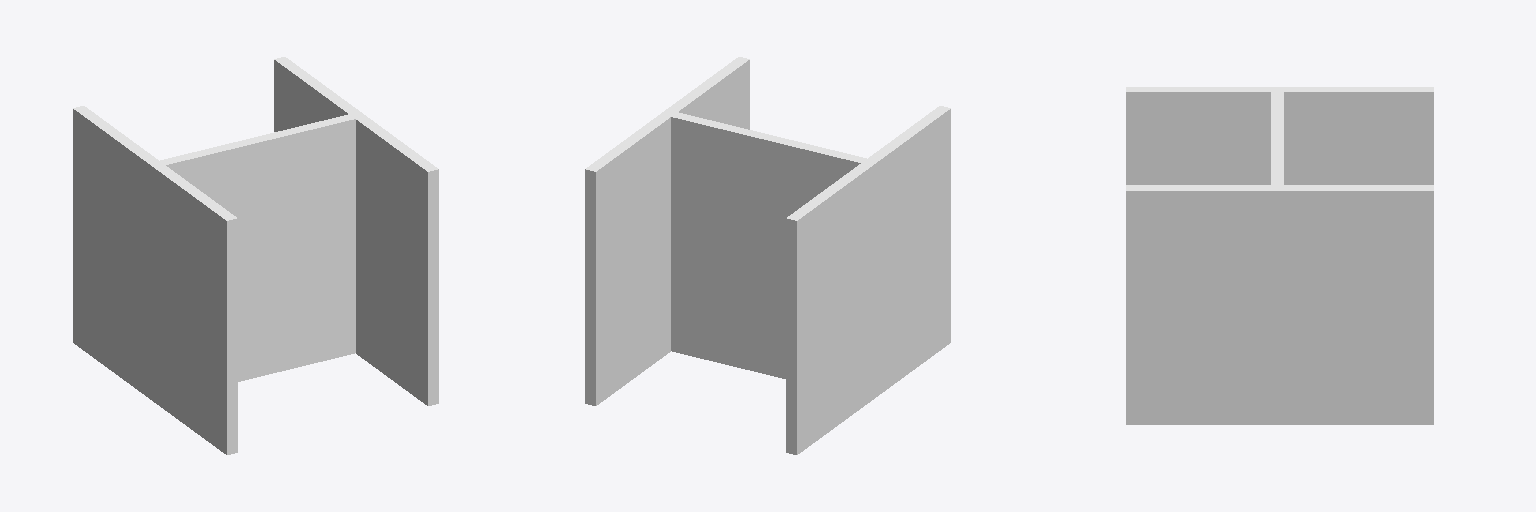
The picture shows the model from 3 angles: view 1: azimuth 30°, elevation 25°; view 2: azimuth 150°, elevation 25°; view 3: azimuth 270°, elevation 25°; orthographic projection.
Visible parts, largest first — view 1: wall_1_4, wall_3_16, wall_2_10, wall_1_3, wall_2_9, wall_1_6, wall_2_11, wall_1_5, wall_2_12, wall_3_17, wall_3_18; view 2: wall_1_4, wall_3_15, wall_2_10, wall_1_3, wall_2_9, wall_1_6, wall_2_11, wall_1_5, wall_2_12, wall_3_18, wall_3_17; view 3: wall_2_9, wall_1_3, wall_1_6, wall_2_11, wall_2_12, wall_3_17, wall_1_5, wall_3_18.
Part boxes in pixels (bbox=[...]): wall_1_4: bbox=[73, 109, 231, 454]; wall_3_16: bbox=[166, 119, 355, 381]; wall_2_10: bbox=[274, 60, 433, 405]; wall_1_3: bbox=[232, 218, 237, 453]; wall_2_9: bbox=[434, 169, 438, 404]; wall_1_6: bbox=[73, 107, 231, 220]; wall_2_11: bbox=[280, 57, 437, 170]; wall_1_5: bbox=[79, 106, 236, 219]; wall_2_12: bbox=[274, 58, 432, 171]; wall_3_17: bbox=[155, 113, 356, 162]; wall_3_18: bbox=[157, 115, 358, 165]; wall_1_4: bbox=[792, 109, 950, 454]; wall_3_15: bbox=[671, 117, 860, 378]; wall_2_10: bbox=[590, 60, 749, 405]; wall_1_3: bbox=[786, 218, 791, 453]; wall_2_9: bbox=[585, 169, 589, 404]; wall_1_6: bbox=[792, 107, 950, 220]; wall_2_11: bbox=[586, 57, 743, 170]; wall_1_5: bbox=[787, 106, 944, 219]; wall_2_12: bbox=[591, 58, 749, 171]; wall_3_18: bbox=[671, 111, 871, 161]; wall_3_17: bbox=[666, 114, 866, 164]; wall_2_9: bbox=[1126, 191, 1433, 424]; wall_1_3: bbox=[1126, 92, 1433, 184]; wall_1_6: bbox=[1126, 87, 1433, 89]; wall_2_11: bbox=[1126, 188, 1433, 190]; wall_2_12: bbox=[1126, 185, 1433, 187]; wall_3_17: bbox=[1277, 90, 1283, 186]; wall_1_5: bbox=[1126, 90, 1433, 91]; wall_3_18: bbox=[1271, 90, 1276, 186].
Size of the model in its own units: 145 by 152 by 182.